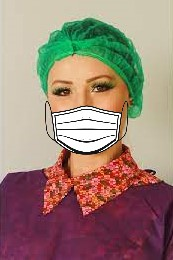with_mask_and_cap: (45, 21, 133, 154)
